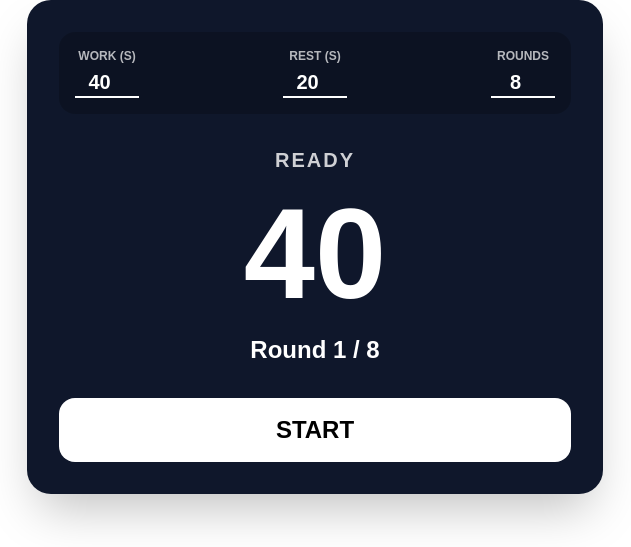
Scenario: Tabata Timer Component and Page › should toggle from idle to work when clicking START
The image size is (631, 547).
Click the button "START" at (315, 430), box top-left (59, 398), bottom-right (571, 462)
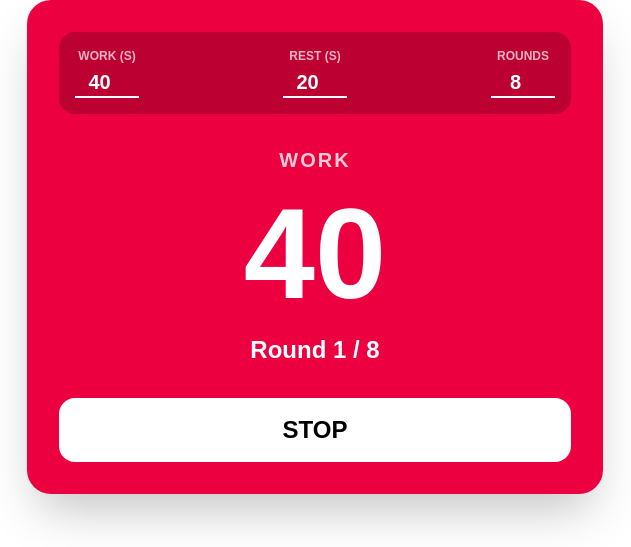
Check: the text "Work" is shown, box top-left (78, 49), bottom-right (136, 63)
Check: the text "work" is shown, box top-left (279, 149), bottom-right (351, 171)
Check: the button "STOP" is shown, box top-left (59, 398), bottom-right (571, 462)
